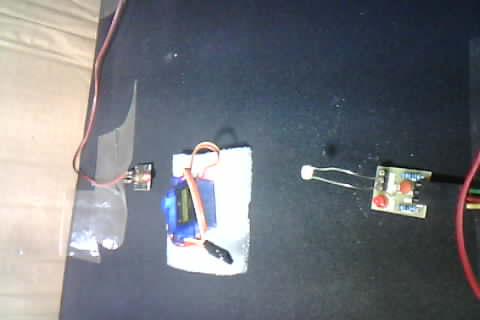motor: (151, 142, 260, 282)
